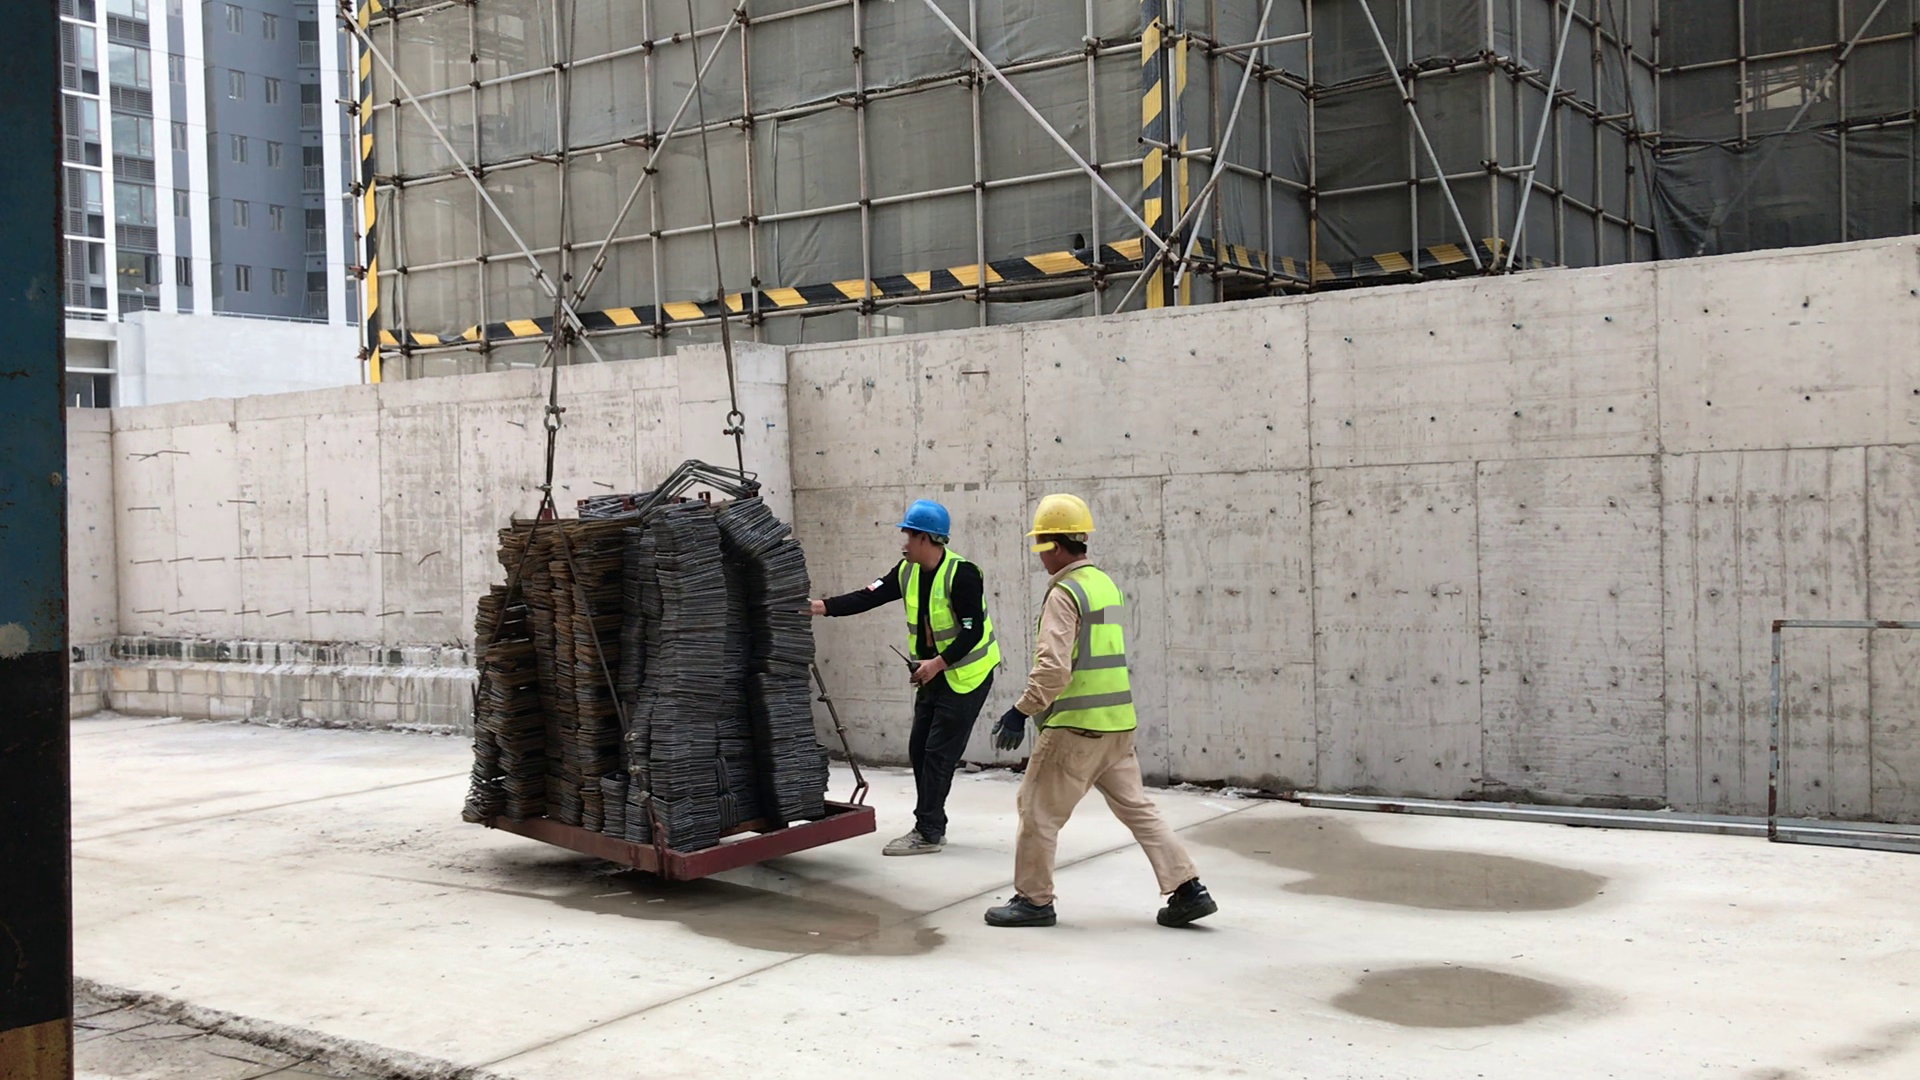helmet: (1019, 484, 1102, 551), (888, 486, 962, 538)
person: (1019, 482, 1202, 950), (803, 485, 992, 874)
vest: (1032, 572, 1160, 748), (876, 553, 991, 696)
